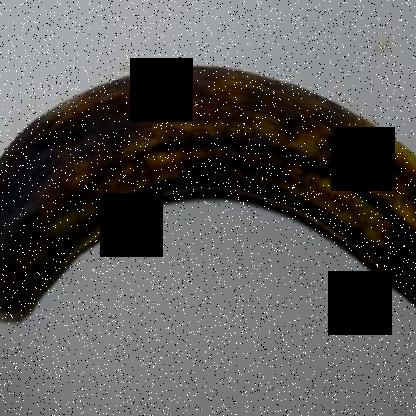overripe: (1, 63, 415, 335)
